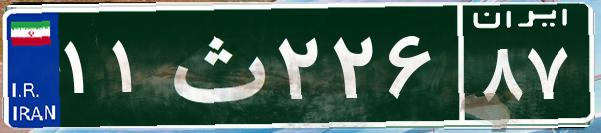1: (57, 26, 110, 107), (110, 28, 158, 105)
2: (273, 28, 330, 110), (330, 28, 385, 110)
6: (385, 28, 445, 110)
7: (525, 38, 570, 115)
8: (475, 38, 525, 113)
ث: (158, 15, 273, 115)
